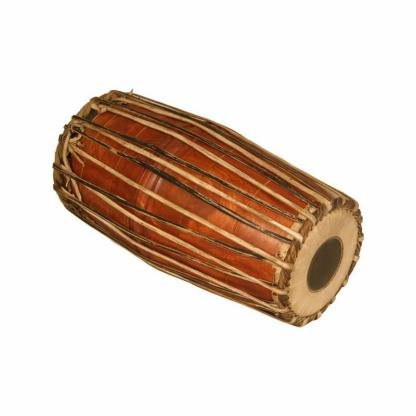Mridangam: (84, 118, 369, 340)
